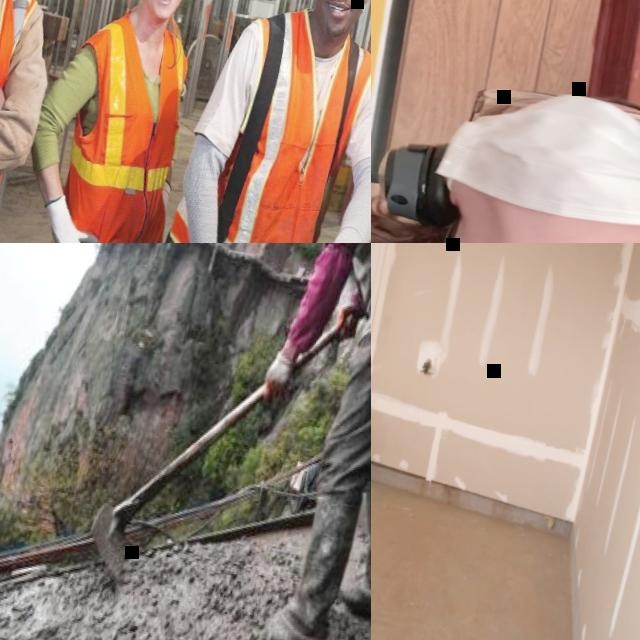Mask: (429, 72, 640, 243)
NO-Mask: (311, 0, 363, 40), (144, 0, 183, 21)
Person: (192, 243, 371, 640), (136, 0, 371, 243), (0, 0, 232, 243), (371, 43, 640, 243), (0, 0, 102, 243)
Safety Vest: (153, 0, 371, 243), (35, 5, 208, 243), (0, 0, 49, 243)
